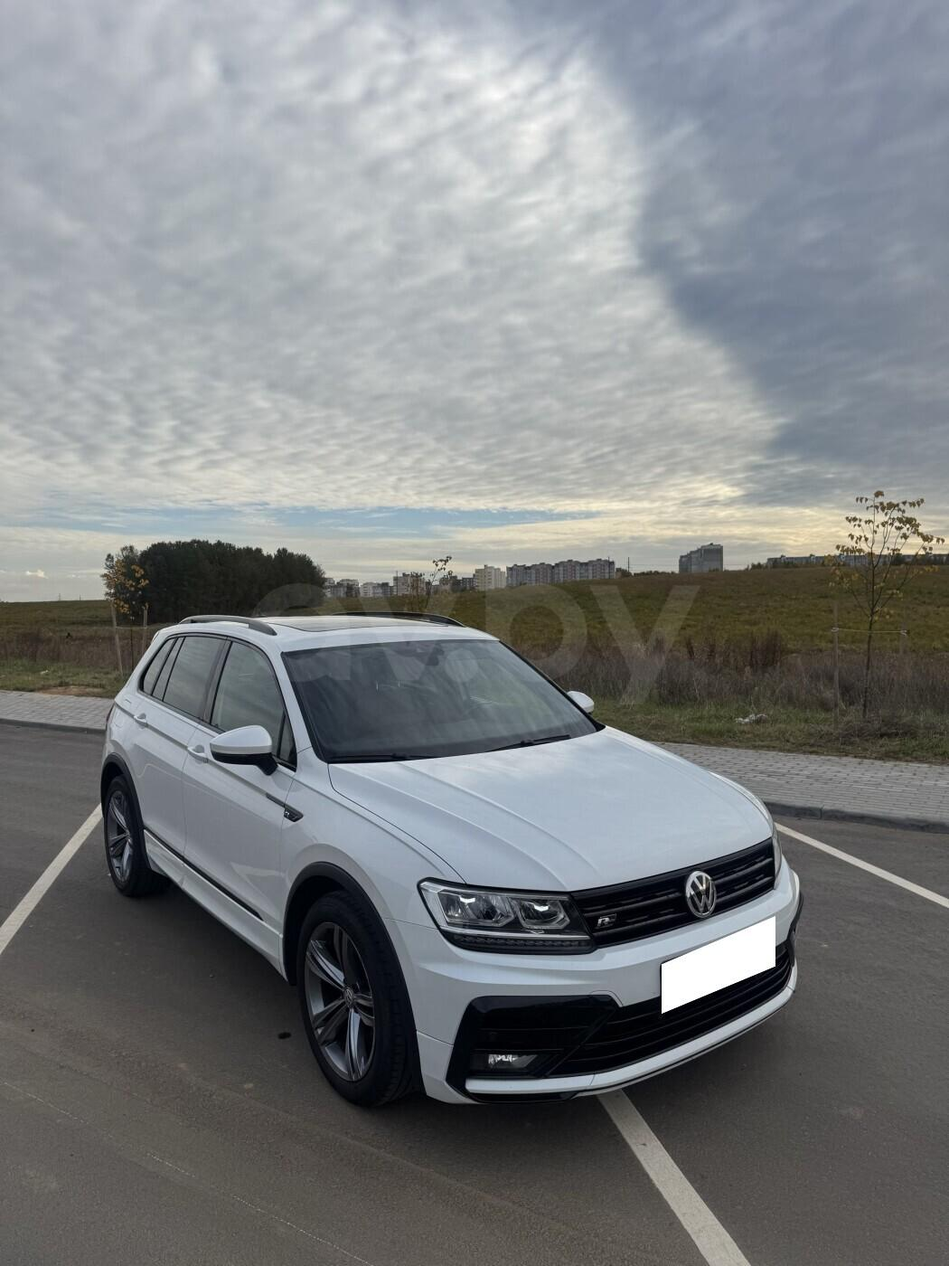Tiguan_2016-2021: (99, 613, 804, 1118)
